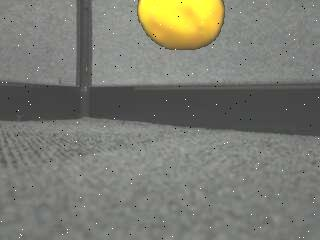Potato: (134, 0, 228, 51)
